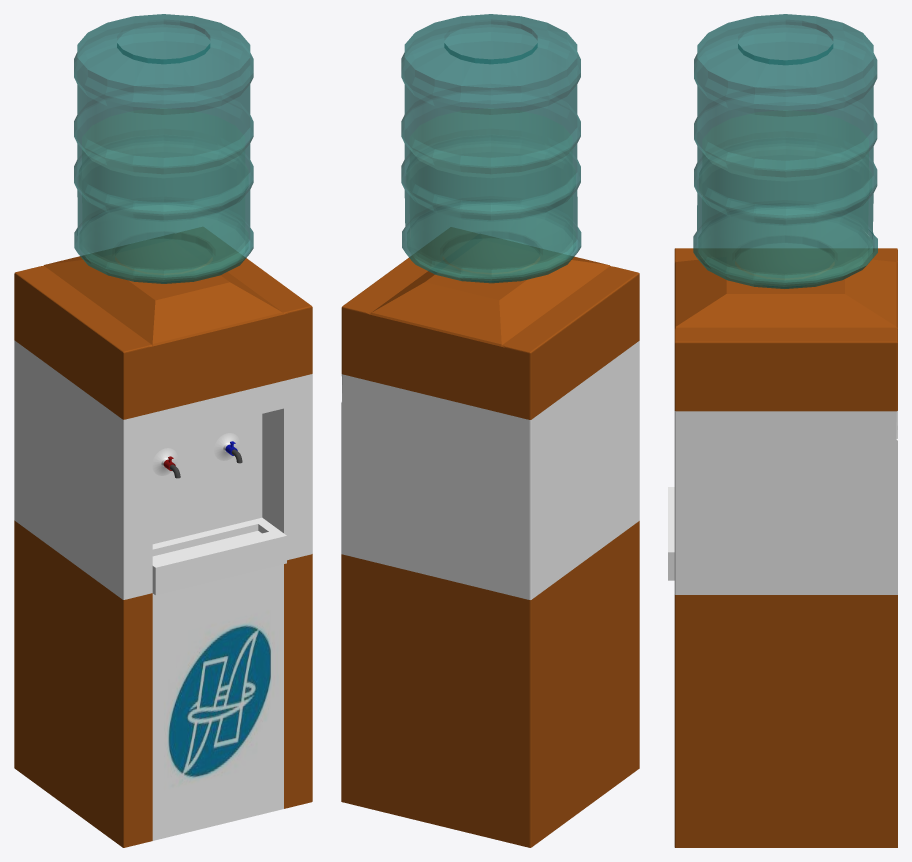
File: WATER_COOLER_EXPORT.FBX
3 views of the same model, side by side, from view 1: azimuth 30°, elevation 25°; view 2: azimuth 150°, elevation 25°; view 3: azimuth 270°, elevation 25° (orthographic). The views are drawn at different scales.
Visible parts, largest first — view 1: Water cooler bottom, Water cooler bottle, Object001, Cone003, Cone002; view 2: Water cooler bottom, Water cooler bottle, Object001; view 3: Water cooler bottom, Water cooler bottle, Object001.
Part boxes in pixels (box(x1,y1,x2,y2)): Water cooler bottom: box(14, 255, 312, 847); Water cooler bottle: box(74, 14, 253, 283); Object001: box(79, 109, 247, 281); Cone003: box(214, 433, 242, 463); Cone002: box(152, 448, 180, 478); Water cooler bottom: box(341, 255, 639, 847); Water cooler bottle: box(401, 14, 581, 283); Object001: box(407, 109, 575, 280); Water cooler bottom: box(668, 248, 897, 847); Water cooler bottle: box(693, 14, 877, 288); Object001: box(699, 110, 872, 286).
Bounding box in the file's own units: 15.75 × 59.21 × 16.2.
